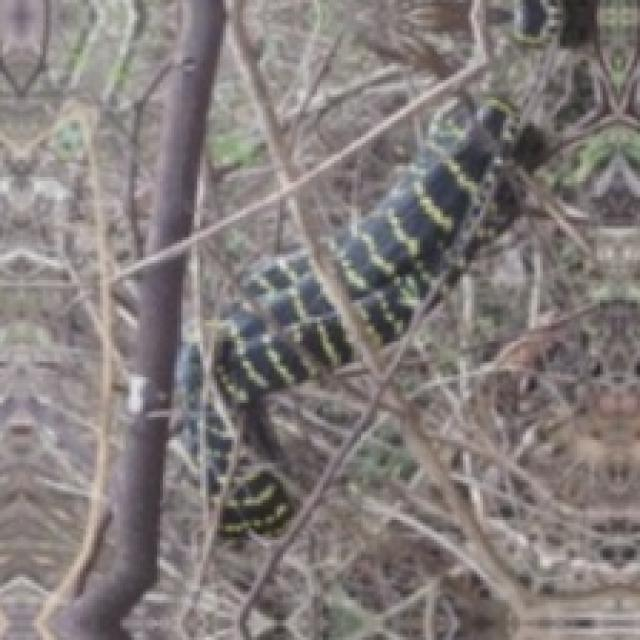mangrove cat snake: (337, 97, 549, 346), (211, 254, 351, 423)
